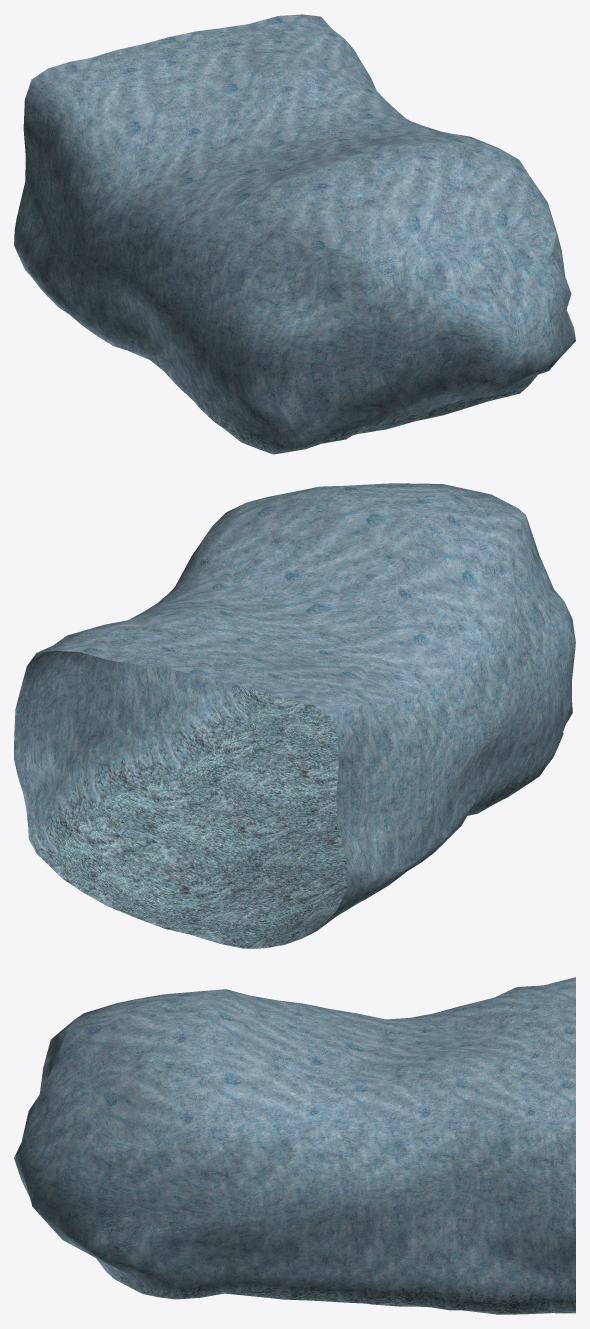
The model's file is thm_all_cave_s01_ice_r11_mesh_r11.fbx.
3 views of the same model, one above another, from view 1: azimuth 30°, elevation 25°; view 2: azimuth 150°, elevation 25°; view 3: azimuth 270°, elevation 25° (orthographic). The views are drawn at different scales.
Visible parts, largest first — view 1: mesh_node; view 2: mesh_node; view 3: mesh_node.
Part boxes in pixels (x1,y1,x2,y2): mesh_node: (14,14,575,454); mesh_node: (14,483,575,948); mesh_node: (14,977,575,1314).
Bounding box in the file's own units: 34.13 × 27 × 50.77.
